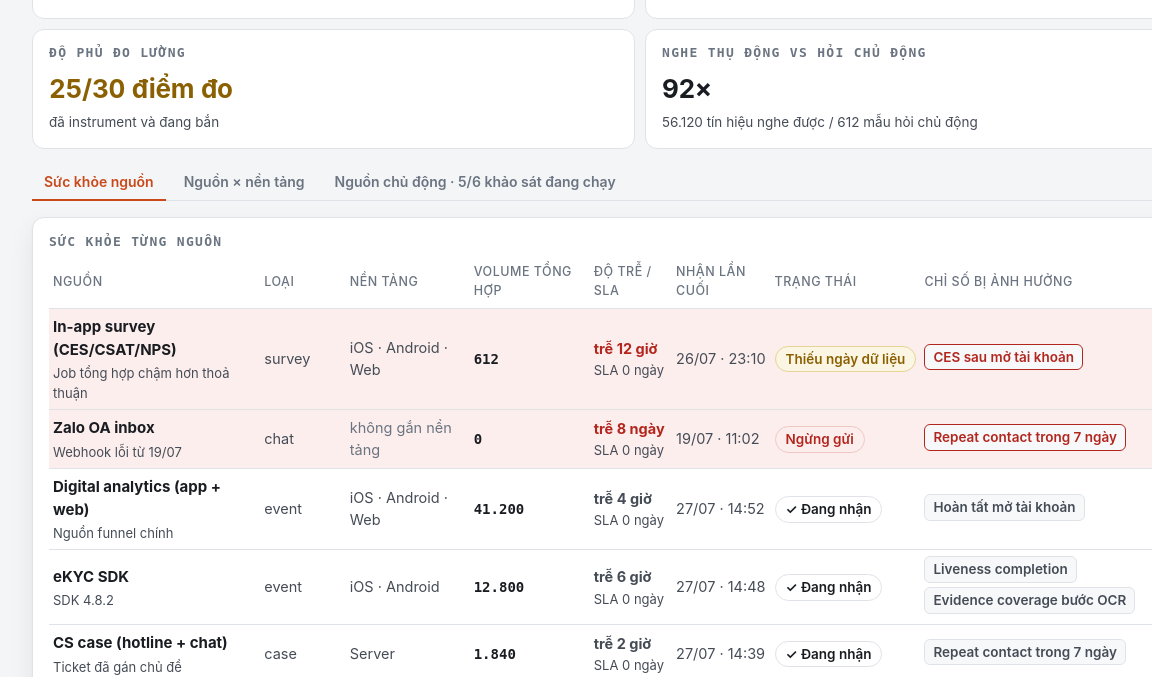
SourceProfile — hai mẫu số không được gộp › nguồn hỏng: hồ sơ nêu chỉ số bị ảnh hưởng và chủ chỉ số, nhưng KHÔNG phán chiều lệch
(page scrolled)
Step 1. Click the row that starts with "In-app survey (CES/CSAT/NPS)" → (600, 359), box [49,308,1151,410]
(page scrolled)
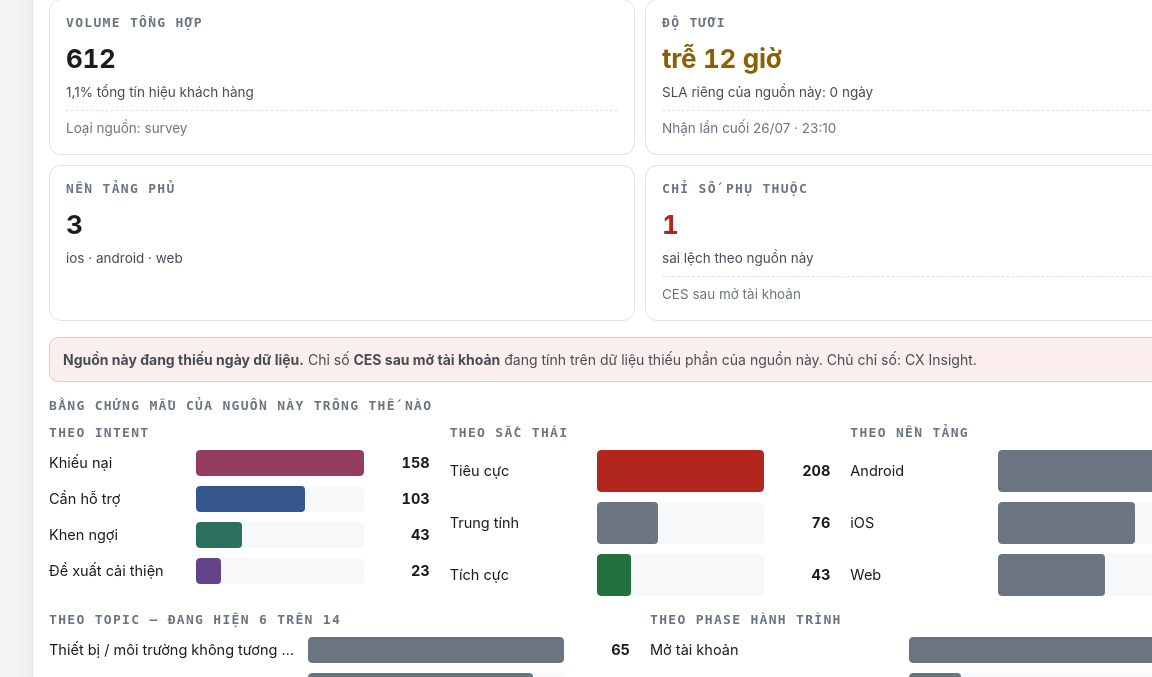
Expected: the element with test id "src-profile-impact" shows "CES sau mở tài khoản", [354,351,500,368]
Expected: the element with test id "src-profile-impact" shows "CX Insight", [905,351,973,368]
